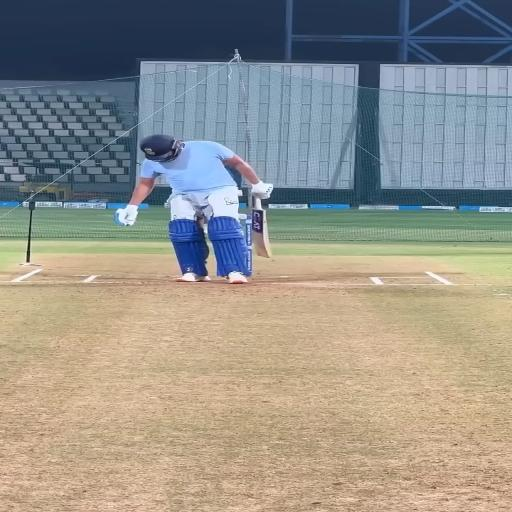Cricket bat: (250, 194, 272, 258)
